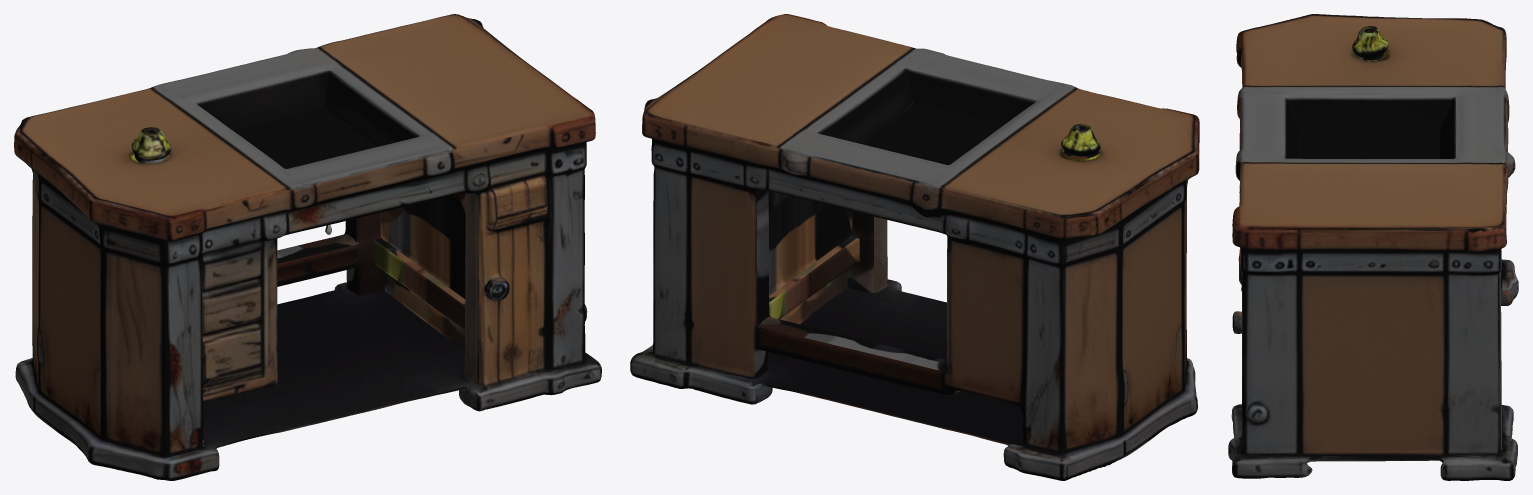
The model's file is catalog-bench-4.glb.
The picture shows the model from 3 angles, left to right: view 1: azimuth 30°, elevation 25°; view 2: azimuth 150°, elevation 25°; view 3: azimuth 270°, elevation 25°; orthographic projection. The views are drawn at different scales.
Parts seen in each view (by area): view 1: tmpfg6qb5p0.ply; view 2: tmpfg6qb5p0.ply; view 3: tmpfg6qb5p0.ply.
Part boxes in pixels (x1,y1,x2,y2): tmpfg6qb5p0.ply: (14, 14, 601, 480); tmpfg6qb5p0.ply: (630, 14, 1199, 480); tmpfg6qb5p0.ply: (1228, 14, 1518, 480).
Size of the model in its own units: 1.96 by 1.15 by 1.09.
1 material, 1 textured.
